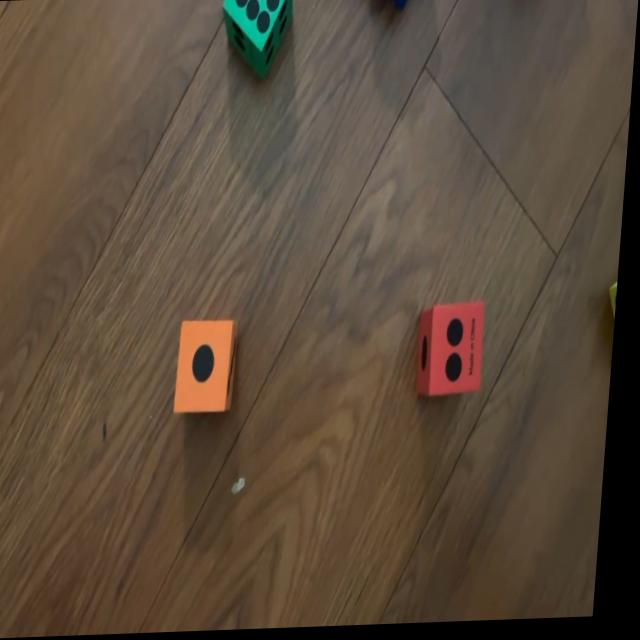cube: (418, 304, 489, 402), (219, 0, 293, 84), (390, 0, 411, 14)
